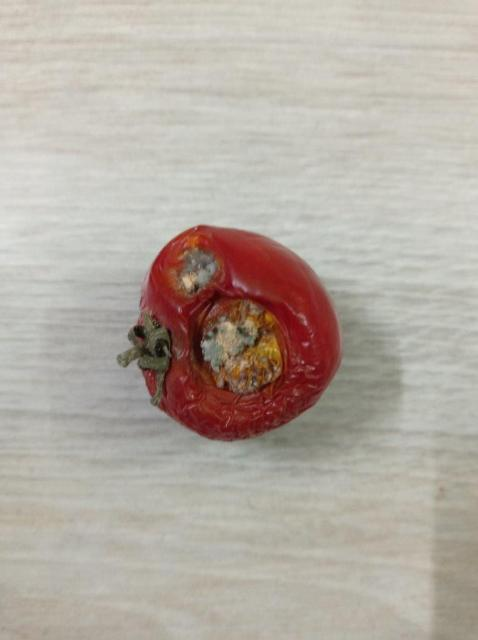defect: (112, 220, 347, 445)
